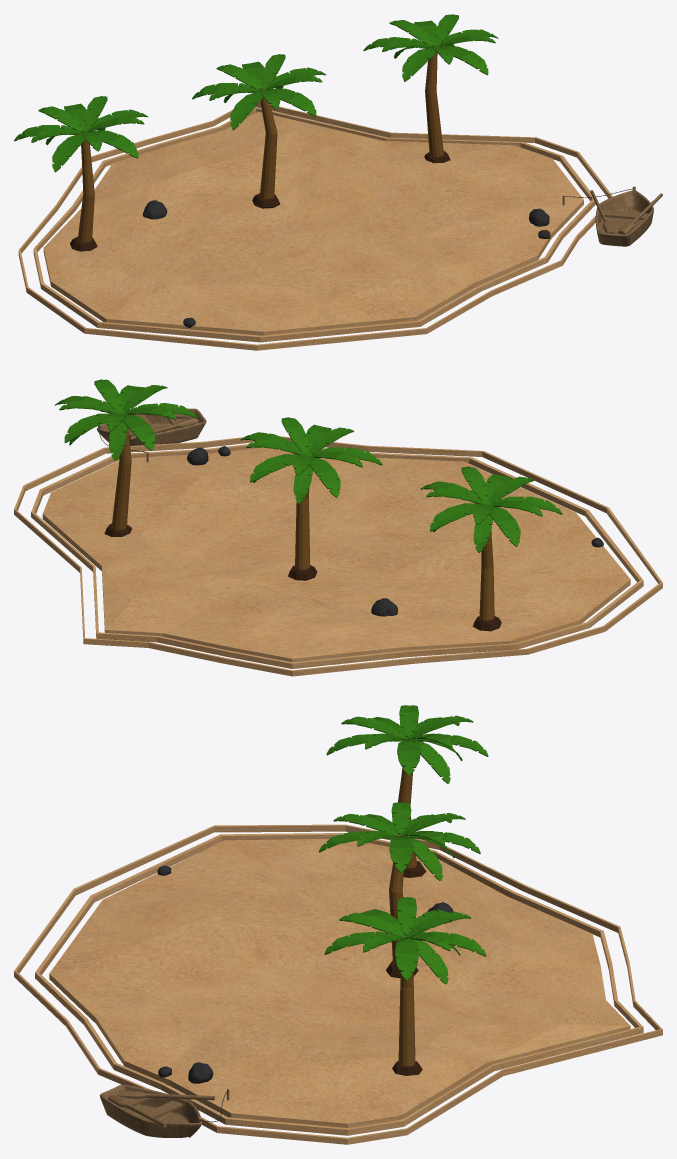
Rendered from islandTheme.obj.
3 views of the same model, one above another, from view 1: azimuth 30°, elevation 25°; view 2: azimuth 150°, elevation 25°; view 3: azimuth 270°, elevation 25° (orthographic). The views are drawn at different scales.
Parts seen in each view (by area): view 1: island_island1, palmLeaf001_Plane.001_Plane.007, palmLeaf002_Plane.002_Plane.008, palmLeaf003_Plane_Plane.001, boat001_Плоскость, palmTree001_Cylinder.001, palmTree002_Cylinder.002, palmTree003_Cylinder; view 2: island_island1, palmLeaf002_Plane.002_Plane.008, palmLeaf001_Plane.001_Plane.007, palmLeaf003_Plane_Plane.001, palmTree003_Cylinder, palmTree002_Cylinder.002, boat001_Плоскость, palmTree001_Cylinder.001; view 3: island_island1, palmLeaf003_Plane_Plane.001, palmLeaf002_Plane.002_Plane.008, palmLeaf001_Plane.001_Plane.007, boat001_Плоскость, palmTree003_Cylinder, palmTree001_Cylinder.001, palmTree002_Cylinder.002.
Part boxes in pixels (box(x1,y1,x2,y2)): island_island1: box(18, 102, 612, 350); palmLeaf001_Plane.001_Plane.007: box(192, 54, 325, 130); palmLeaf002_Plane.002_Plane.008: box(14, 96, 147, 172); palmLeaf003_Plane_Plane.001: box(363, 14, 498, 81); boat001_Плоскость: box(595, 190, 653, 246); palmTree001_Cylinder.001: box(252, 88, 279, 208); palmTree002_Cylinder.002: box(70, 131, 97, 251); palmTree003_Cylinder: box(424, 46, 450, 163); island_island1: box(14, 436, 662, 676); palmLeaf002_Plane.002_Plane.008: box(420, 466, 562, 553); palmLeaf001_Plane.001_Plane.007: box(240, 417, 382, 503); palmLeaf003_Plane_Plane.001: box(54, 379, 197, 460); palmTree003_Cylinder: box(104, 427, 131, 536); palmTree002_Cylinder.002: box(472, 524, 501, 631); boat001_Плоскость: box(97, 408, 206, 445); palmTree001_Cylinder.001: box(288, 453, 317, 580); island_island1: box(14, 824, 662, 1144); palmLeaf003_Plane_Plane.001: box(324, 897, 486, 984); palmLeaf002_Plane.002_Plane.008: box(326, 705, 488, 783); palmLeaf001_Plane.001_Plane.007: box(319, 802, 480, 880); boat001_Плоскость: box(99, 1084, 201, 1137); palmTree003_Cylinder: box(392, 937, 422, 1075); palmTree001_Cylinder.001: box(386, 834, 418, 978); palmTree002_Cylinder.002: box(398, 738, 426, 877).
Size of the model in its own units: 6.25 by 1.53 by 5.41.
7 materials, 2 textured.
